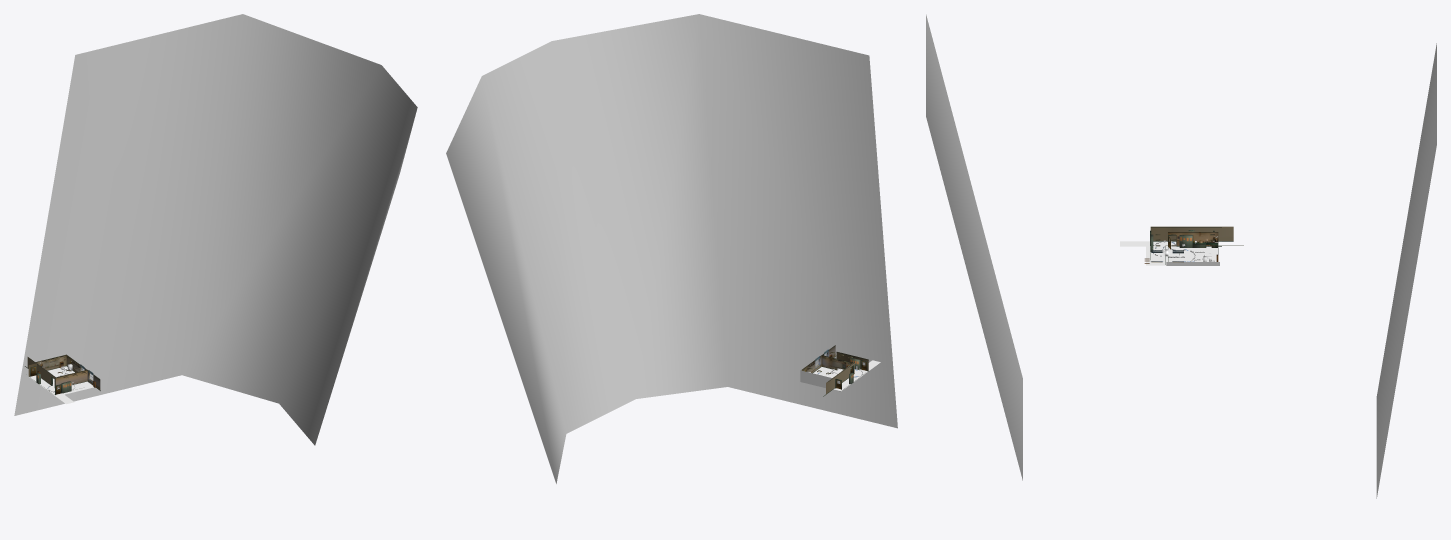
File: olivermath_track.glb
3 renders of one model, left to right at view 1: azimuth 30°, elevation 25°; view 2: azimuth 150°, elevation 25°; view 3: azimuth 270°, elevation 25°, orthographic. The views are drawn at different scales.
Parts seen in each view (by area): view 1: clouds.png__, mathclassnorth.jpg__, stk_generic_carpet_a.png__; view 2: clouds.png__, stk_generic_carpet_a.png__, mathclassnorth.jpg__; view 3: clouds.png__, stk_generic_carpet_a.png__, mathclassnorth.jpg__, mathclasswest.jpg__.
Part boxes in pixels (x1=…): clouds.png__: x1=14, y1=14, x2=417, y2=445; mathclassnorth.jpg__: x1=25, y1=354, x2=100, y2=394; stk_generic_carpet_a.png__: x1=27, y1=366, x2=93, y2=404; clouds.png__: x1=446, y1=14, x2=897, y2=483; stk_generic_carpet_a.png__: x1=800, y1=360, x2=880, y2=391; mathclassnorth.jpg__: x1=802, y1=345, x2=868, y2=396; clouds.png__: x1=926, y1=14, x2=1436, y2=498; stk_generic_carpet_a.png__: x1=1120, y1=241, x2=1217, y2=265; mathclassnorth.jpg__: x1=1144, y1=226, x2=1243, y2=264; mathclasswest.jpg__: x1=1150, y1=230, x2=1218, y2=251.
Size of the model in its own units: 1287 by 1119 by 1276.
Materials: 22 (8 with a texture image).
